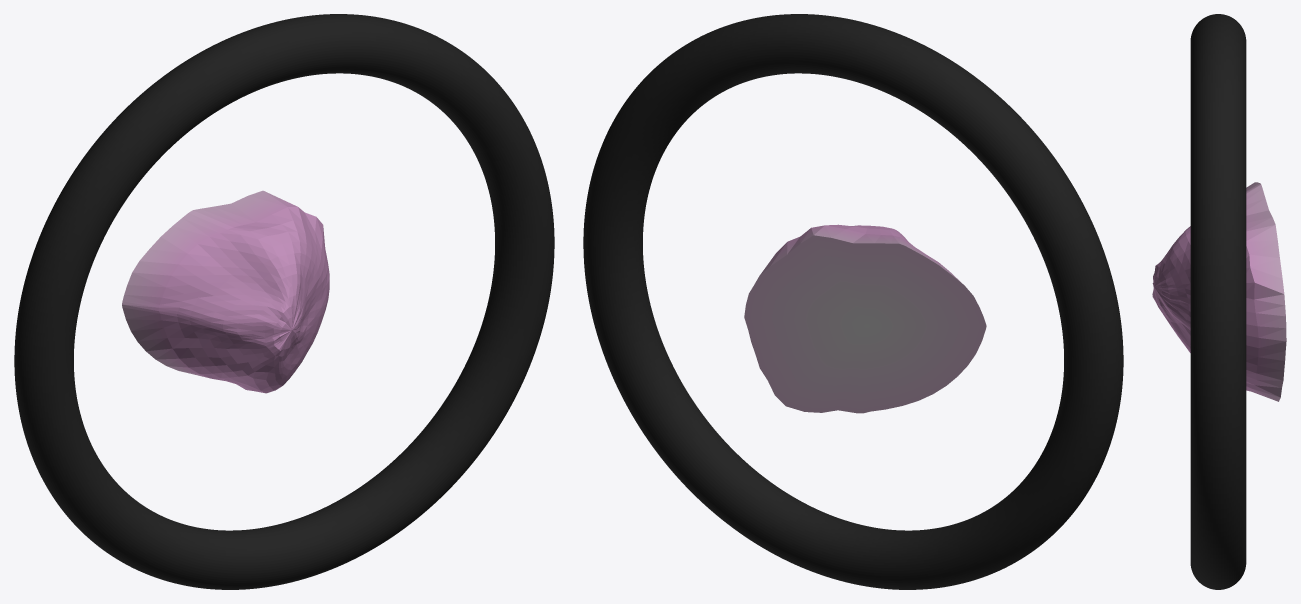
File: FINAL012_with_Ring_m.glb
3 renders of one model, left to right at view 1: azimuth 30°, elevation 25°; view 2: azimuth 150°, elevation 25°; view 3: azimuth 270°, elevation 25°, orthographic. The views are drawn at different scales.
Parts seen in each view (by area): view 1: Ring_CAD, Polyp_FINAL012; view 2: Ring_CAD, Polyp_FINAL012; view 3: Ring_CAD, Polyp_FINAL012.
Boxes of the visible parts, left/top/right/bottom form: Ring_CAD: left=14, top=14, right=554, bottom=589; Polyp_FINAL012: left=122, top=190, right=329, bottom=393; Ring_CAD: left=583, top=14, right=1123, bottom=589; Polyp_FINAL012: left=744, top=224, right=986, bottom=413; Ring_CAD: left=1190, top=14, right=1246, bottom=589; Polyp_FINAL012: left=1152, top=182, right=1286, bottom=401.
Size of the model in its own units: 0.0124 by 0.0124 by 0.00289.
